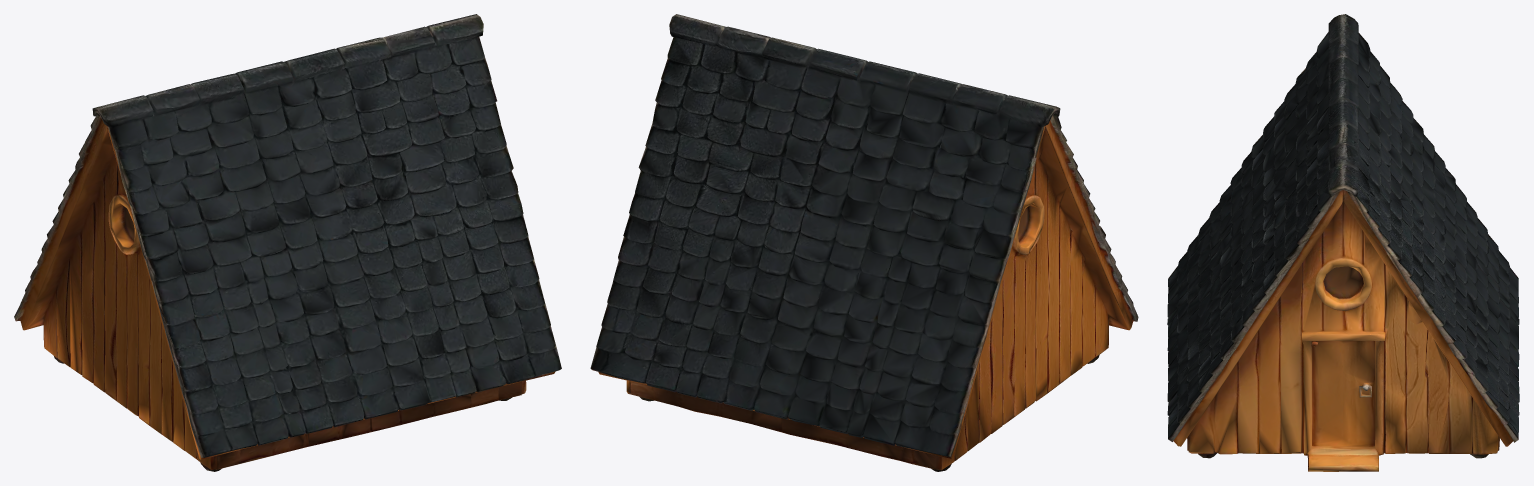
The model's file is aframe.glb.
3 renders of one model, left to right at view 1: azimuth 30°, elevation 25°; view 2: azimuth 150°, elevation 25°; view 3: azimuth 270°, elevation 25°, orthographic. The views are drawn at different scales.
Parts seen in each view (by area): view 1: tripo_node_1e94696a-dcca-40af-9ff8-b86bfcdddc2f; view 2: tripo_node_1e94696a-dcca-40af-9ff8-b86bfcdddc2f; view 3: tripo_node_1e94696a-dcca-40af-9ff8-b86bfcdddc2f.
Boxes of the visible parts, x1,y1,x2,y2 form: tripo_node_1e94696a-dcca-40af-9ff8-b86bfcdddc2f: (14, 14, 561, 471); tripo_node_1e94696a-dcca-40af-9ff8-b86bfcdddc2f: (590, 14, 1138, 471); tripo_node_1e94696a-dcca-40af-9ff8-b86bfcdddc2f: (1167, 14, 1519, 471).
Bounding box in the file's own units: 1 × 0.7964 × 0.8677.
Materials: 1 (1 with a texture image).
